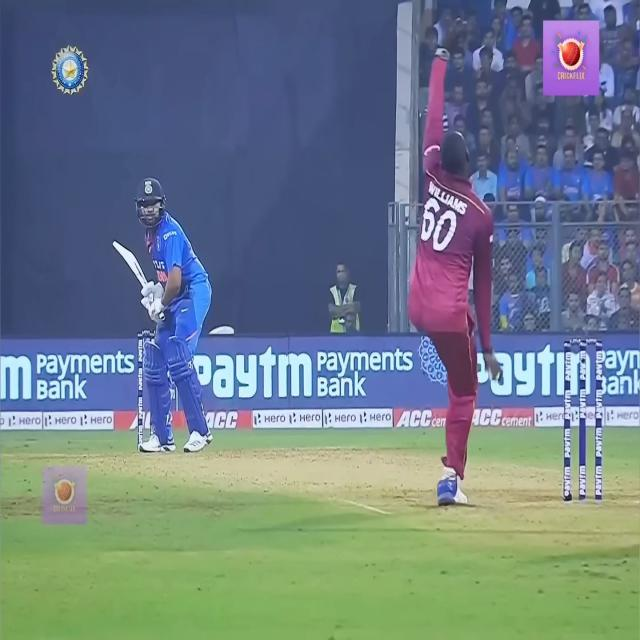partially_visible: (470, 346, 595, 401), (189, 352, 318, 403)
